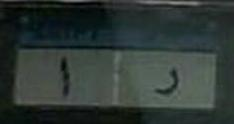1: (58, 56, 76, 96)
raa: (156, 67, 180, 96)
